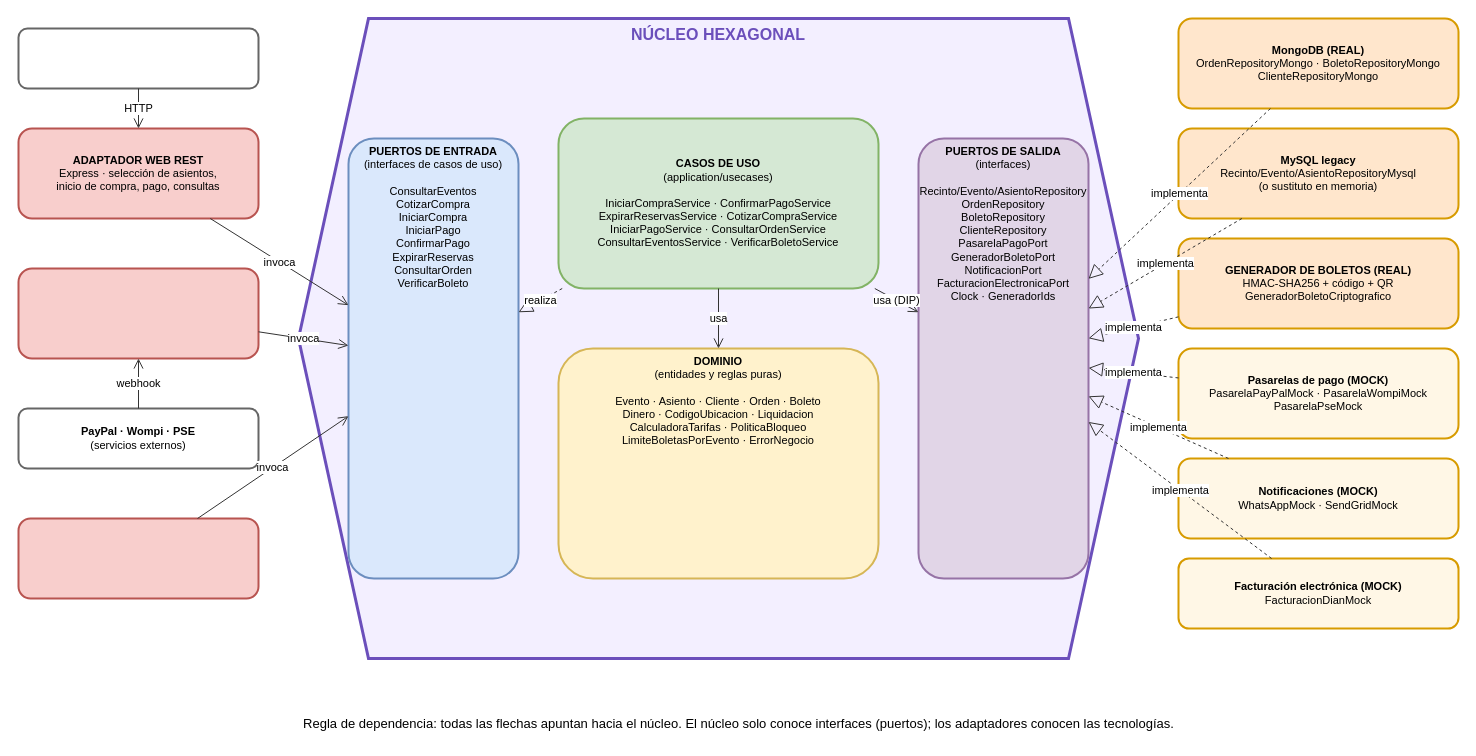
Image size: 1476x756. Some labels were removed from this diagram. The centre of each missing label's shape, as x and y in pixels:
"ADAPTADOR PROGRAMADO Scheduler (setInterval) expira reservas vencidas" goes at point 138,558.
"ADAPTADOR WEBHOOK POST /webhooks/pagos/:pasarela (notificaciones asíncronas)" goes at point 138,313.
"Navegador / app móvil (cliente)" goes at point 138,58.
